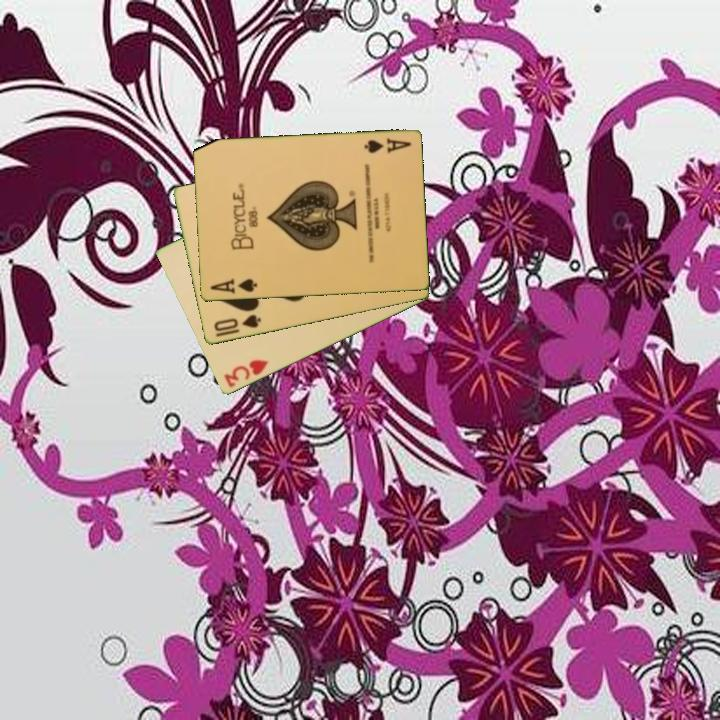10s: (210, 311, 264, 340)
3h: (220, 356, 271, 391)
As: (207, 275, 260, 297), (361, 135, 413, 156)
